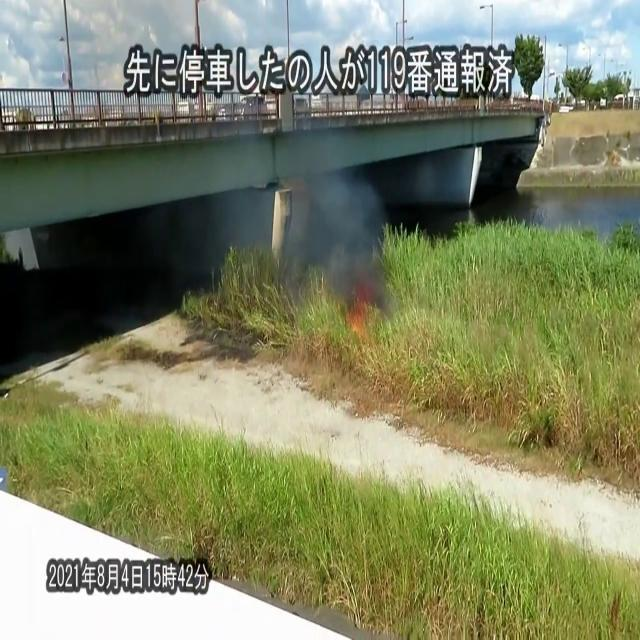Smoke: (287, 142, 391, 307)
